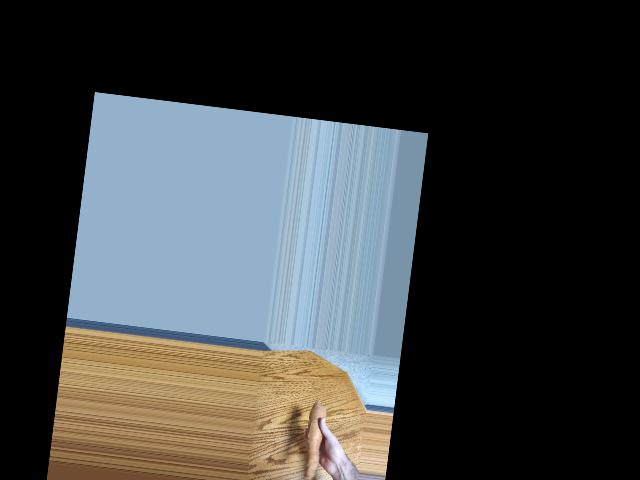sweet_potato: (299, 404, 330, 480)
